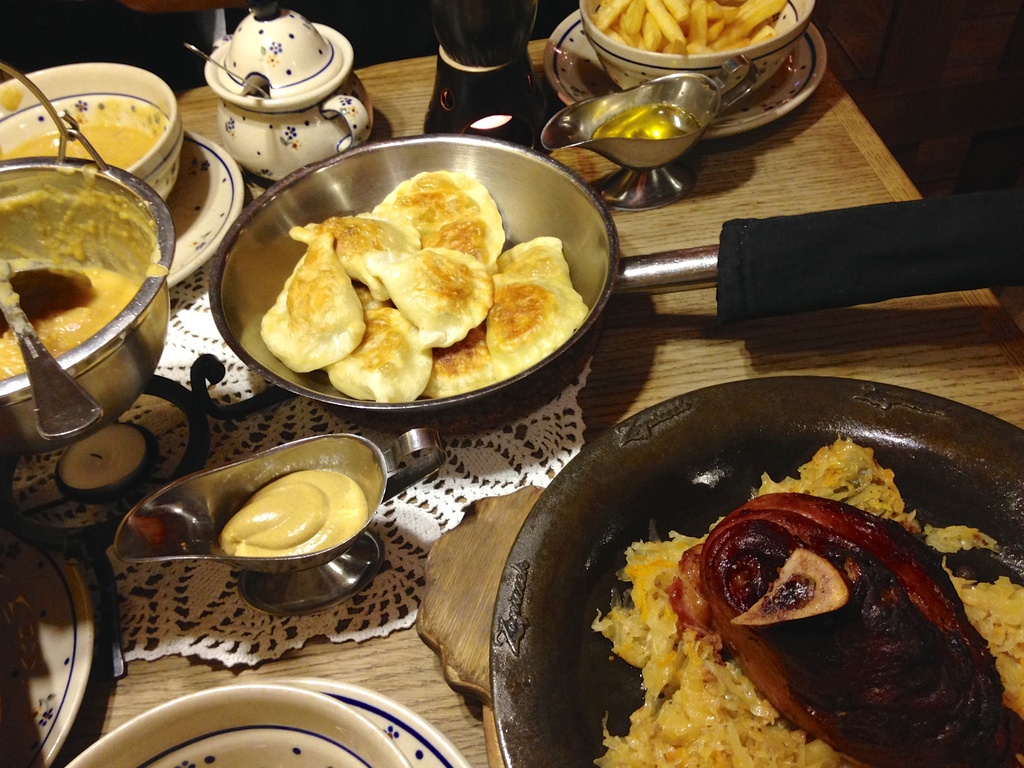French fries: (584, 0, 791, 53)
